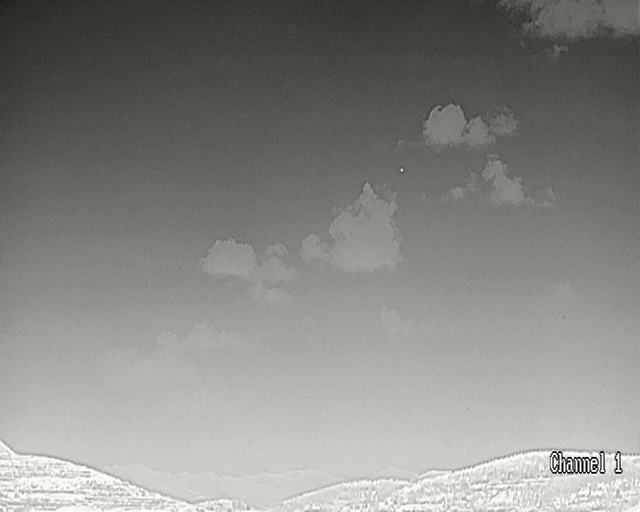uav: (400, 168, 403, 171)
